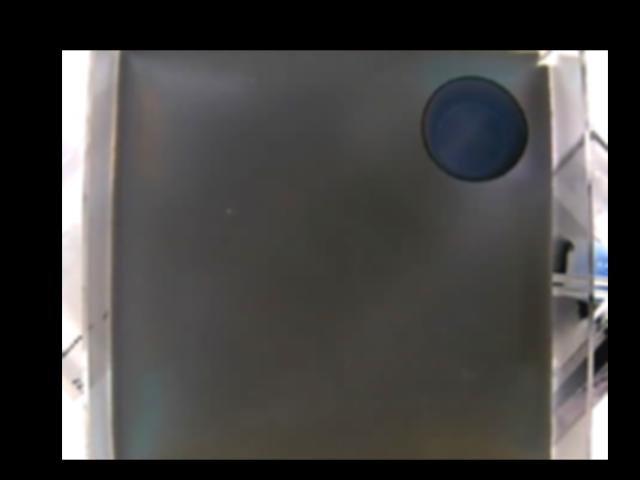Cup: (416, 74, 530, 186)
